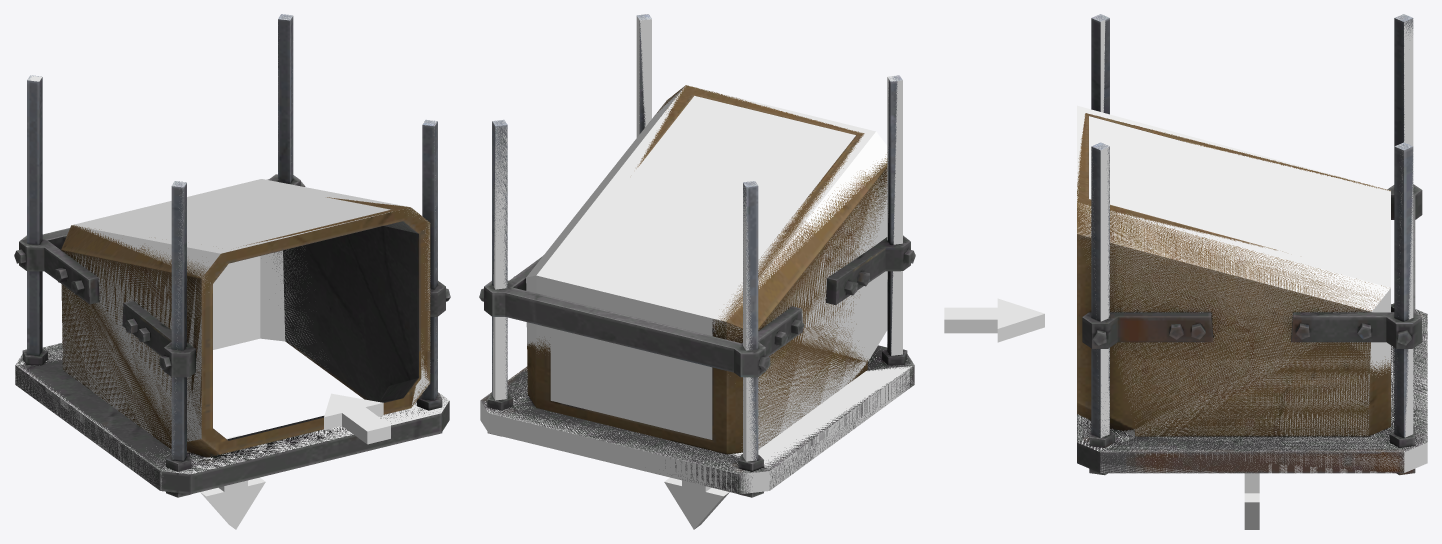
Rendered from Chute_Top_Angle_Window.glb.
3 renders of one model, left to right at view 1: azimuth 30°, elevation 25°; view 2: azimuth 150°, elevation 25°; view 3: azimuth 270°, elevation 25°, orthographic. The views are drawn at different scales.
Parts seen in each view (by area): view 1: Chute_Top_Angle_Window, Chute_Top_Angle_Col, ghostarrow, ghostarrow (1); view 2: Chute_Top_Angle_Col, Chute_Top_Angle_Window, ghostarrow (1); view 3: Chute_Top_Angle_Window, Chute_Top_Angle_Col, ghostarrow, ghostarrow (1).
Part boxes in pixels (x1,y1,x2,y2): Chute_Top_Angle_Window: [14, 14, 450, 497]; Chute_Top_Angle_Col: [15, 14, 449, 490]; ghostarrow: [324, 393, 390, 444]; ghostarrow (1): [200, 435, 265, 529]; Chute_Top_Angle_Col: [480, 14, 913, 493]; Chute_Top_Angle_Window: [479, 14, 915, 497]; ghostarrow (1): [664, 477, 729, 529]; Chute_Top_Angle_Window: [1077, 14, 1427, 475]; Chute_Top_Angle_Col: [1077, 14, 1427, 473]; ghostarrow: [944, 298, 1044, 342]; ghostarrow (1): [1244, 473, 1259, 529].
Size of the model in its own units: 1 by 1.41 by 1.38.
4 materials, 2 textured.
